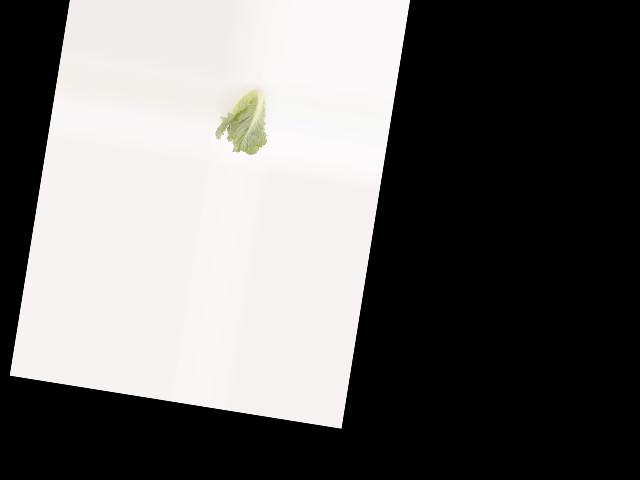lettuce: (215, 76, 277, 159)
